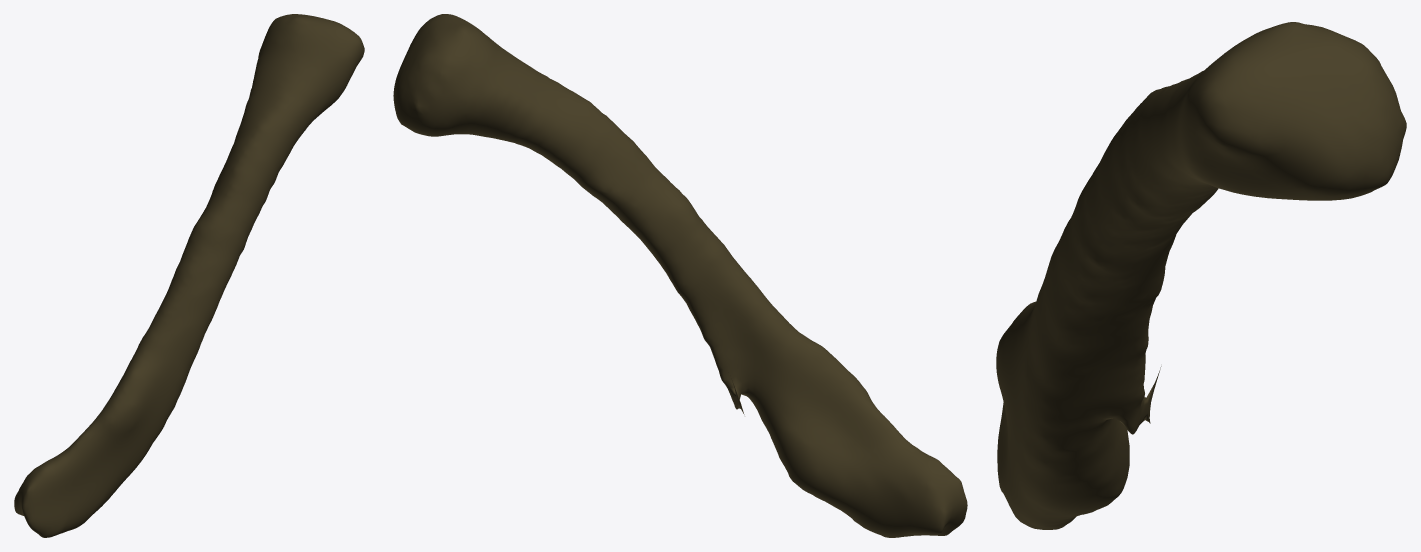
The model's file is segmentations_clavicula_left.obj.
3 views of the same model, side by side, from view 1: azimuth 30°, elevation 25°; view 2: azimuth 150°, elevation 25°; view 3: azimuth 270°, elevation 25° (orthographic). The views are drawn at different scales.
Parts seen in each view (by area): view 1: grp1; view 2: grp1; view 3: grp1.
Boxes of the visible parts, x1,y1,x2,y2 form: grp1: (14, 14, 364, 537); grp1: (393, 14, 967, 537); grp1: (996, 22, 1406, 529).
Bounding box in the file's own units: 67.71 × 64.28 × 30.49.
